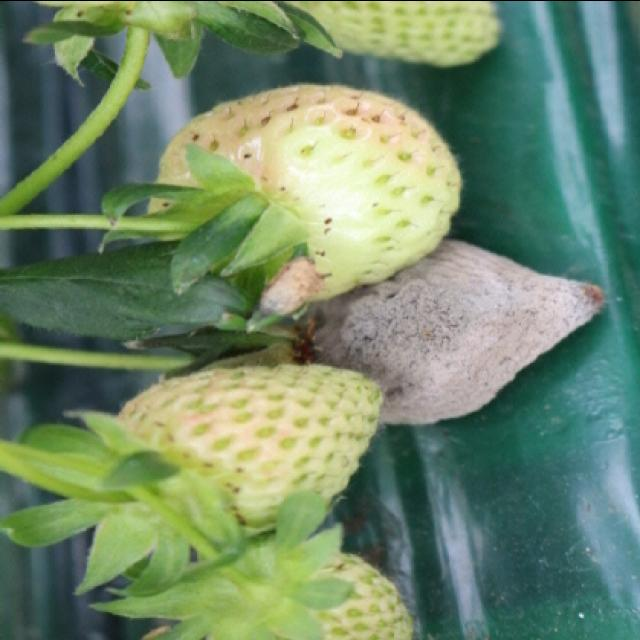Gray Mold: (291, 238, 608, 424)
